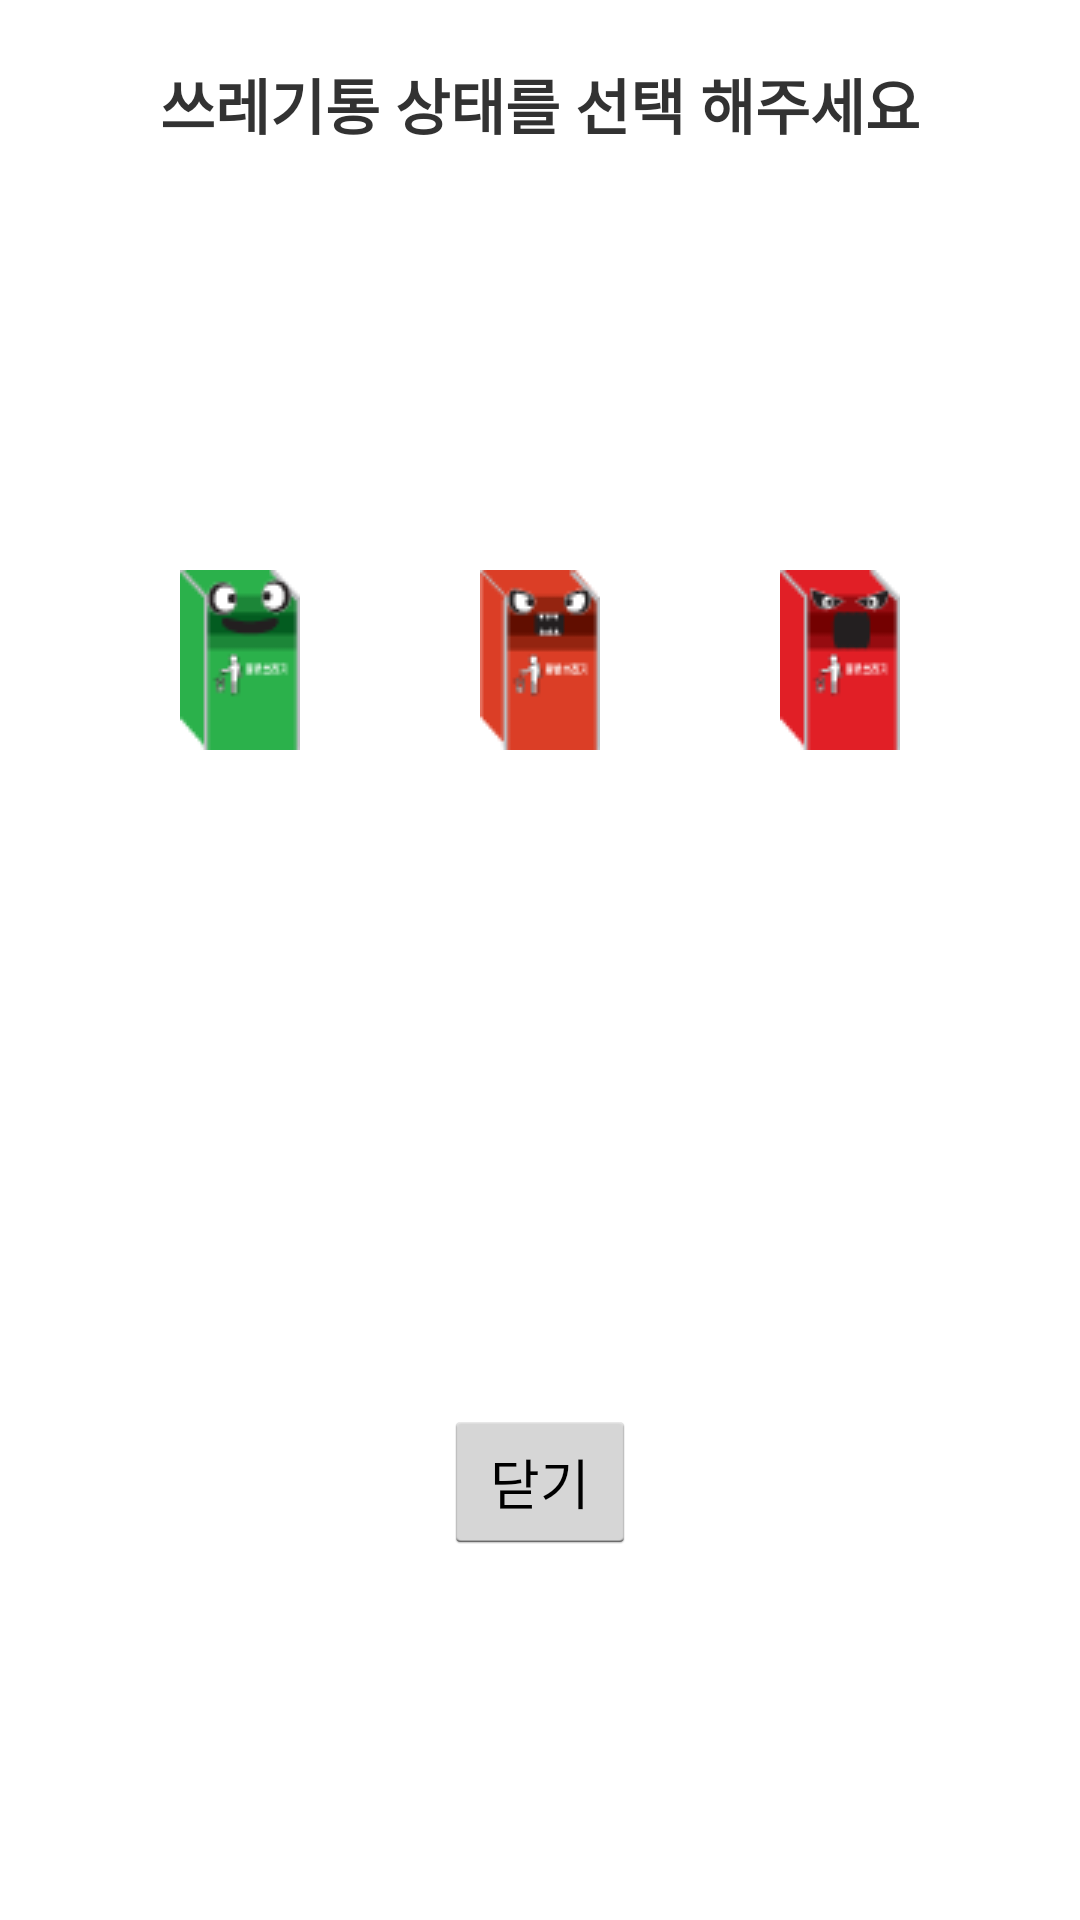

Point at icon controls on the screen. Image size 1080x1920, points as (x=x, y=y).
greenpop: (x=240, y=660)
orangepop: (x=540, y=660)
redpop: (x=840, y=660)
